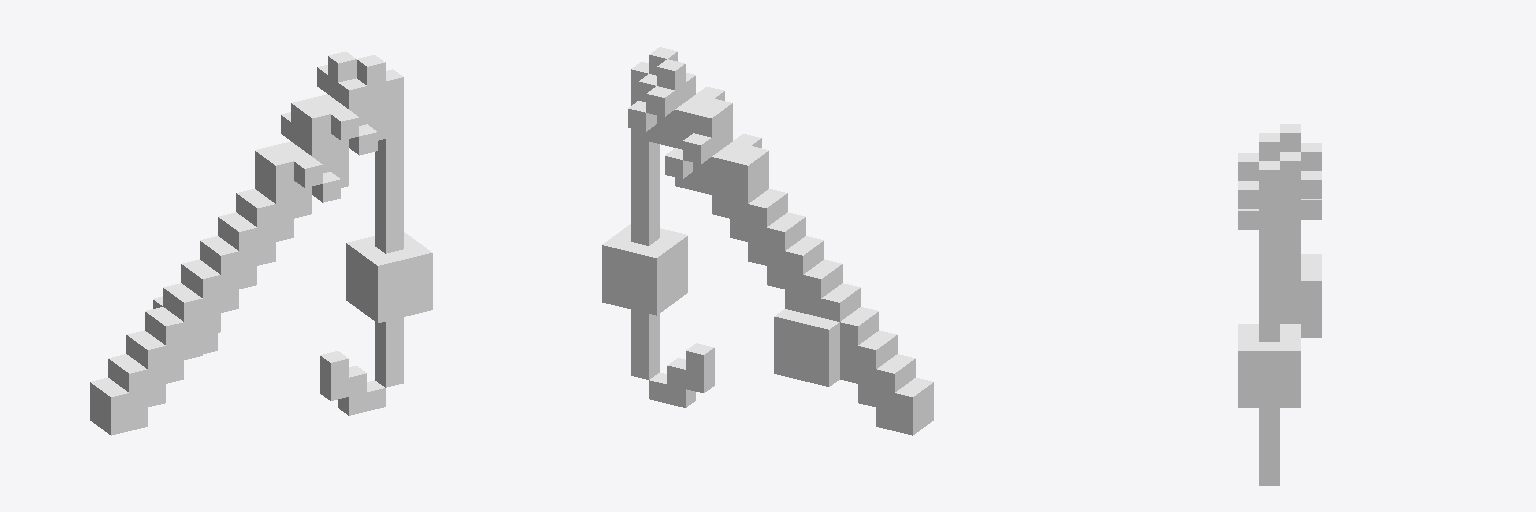
The model's file is obj.fishing.obj.
3 views of the same model, side by side, from view 1: azimuth 30°, elevation 25°; view 2: azimuth 150°, elevation 25°; view 3: azimuth 270°, elevation 25° (orthographic).
Parts seen in each view (by area): view 1: object 1; view 2: object 1; view 3: object 1.
Boxes of the visible parts, <box> form: object 1: <box>90,52,432,435</box>; object 1: <box>602,47,933,435</box>; object 1: <box>1238,124,1321,485</box>.
Bounding box in the file's own units: 1.7 × 1.8 × 0.4.